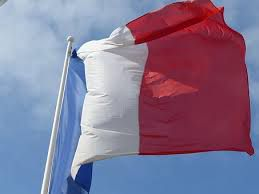French Flag: (48, 1, 250, 193)
